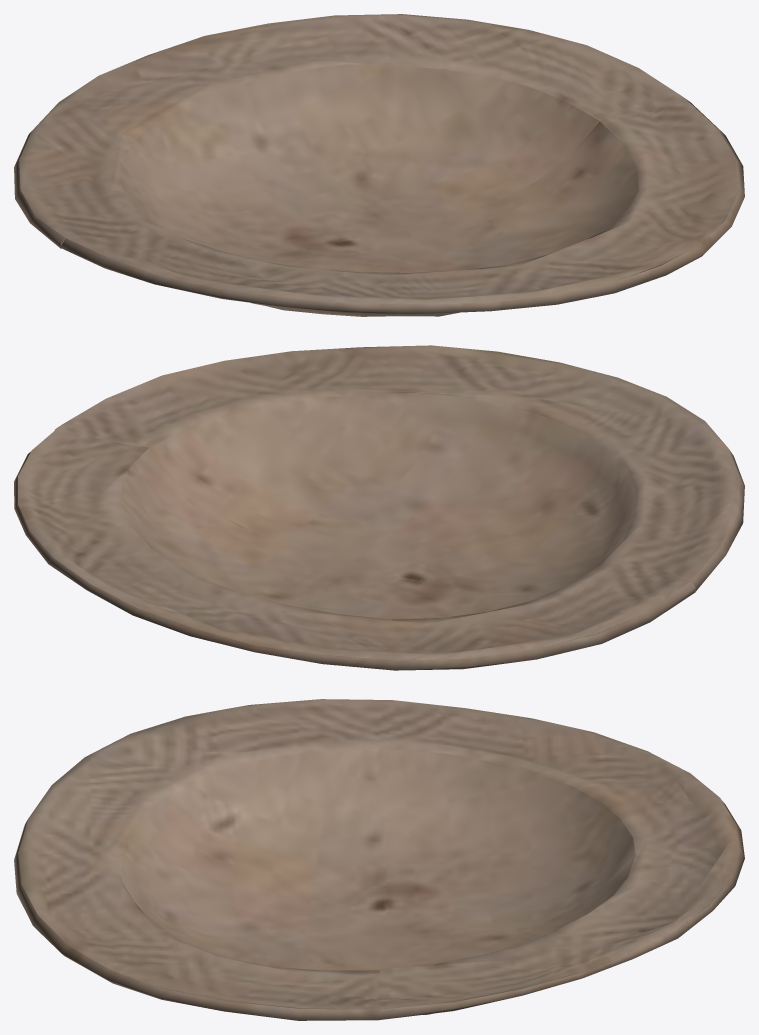
Rendered from carved_wooden_plate.glb.
3 views of the same model, one above another, from view 1: azimuth 30°, elevation 25°; view 2: azimuth 150°, elevation 25°; view 3: azimuth 270°, elevation 25° (orthographic). The views are drawn at different scales.
Visible parts, largest first — view 1: carved_wooden_plate; view 2: carved_wooden_plate; view 3: carved_wooden_plate.
Boxes of the visible parts, box(x1,y1,x2,y2) form: carved_wooden_plate: box(14, 14, 744, 316); carved_wooden_plate: box(14, 345, 744, 670); carved_wooden_plate: box(14, 699, 744, 1020).
Bounding box in the file's own units: 0.272 × 0.0383 × 0.2691.
1 material, 1 textured.
